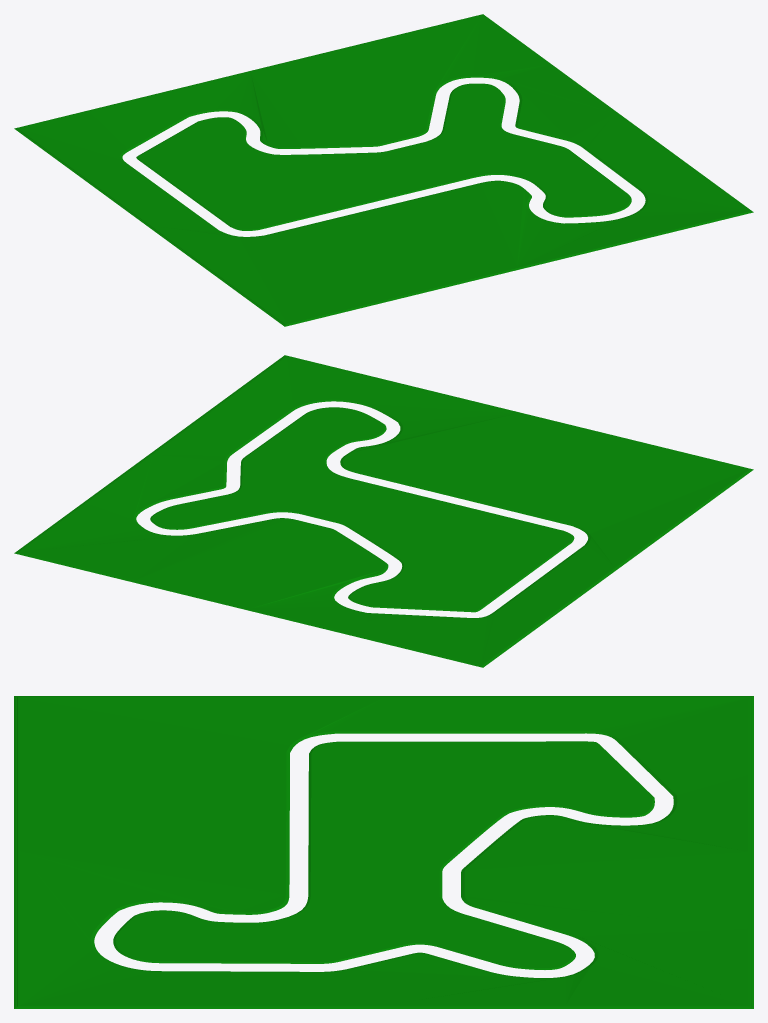
The model's file is M_GrassTerrain.FBX.
3 renders of one model, top to bottom at view 1: azimuth 30°, elevation 25°; view 2: azimuth 150°, elevation 25°; view 3: azimuth 270°, elevation 25°, orthographic. The views are drawn at different scales.
Parts seen in each view (by area): view 1: P_Road, Object006; view 2: P_Road, Object006; view 3: P_Road, Object006.
Boxes of the visible parts, x1,y1,x2,y2 form: P_Road: [14, 14, 753, 326]; Object006: [136, 83, 631, 230]; P_Road: [14, 355, 753, 667]; Object006: [150, 407, 574, 612]; P_Road: [14, 696, 753, 1008]; Object006: [113, 741, 654, 969].
Size of the model in its own units: 9351 by 54.26 by 9351.
